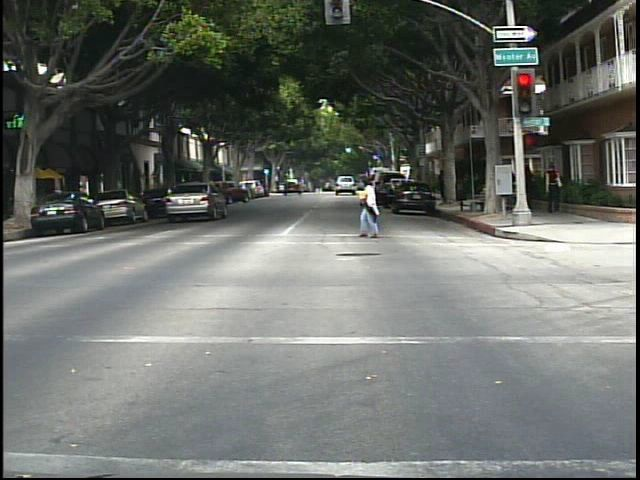person: (354, 174, 391, 243), (544, 159, 566, 220), (521, 158, 541, 216)
